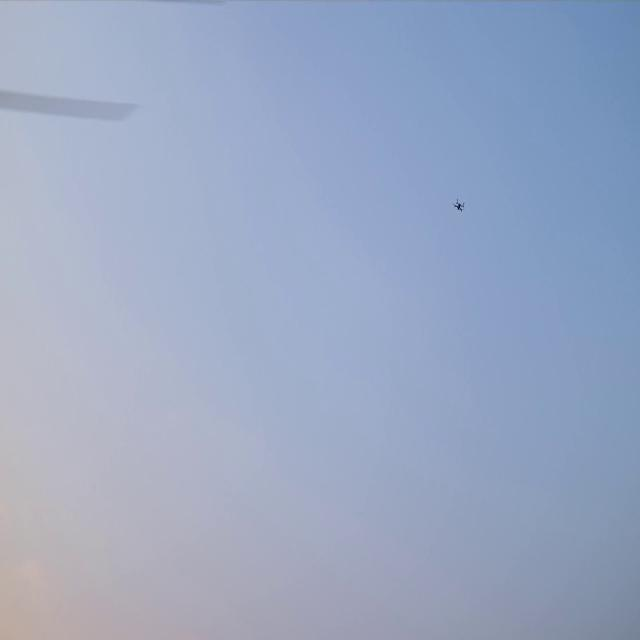UAV: (455, 202, 463, 210)
